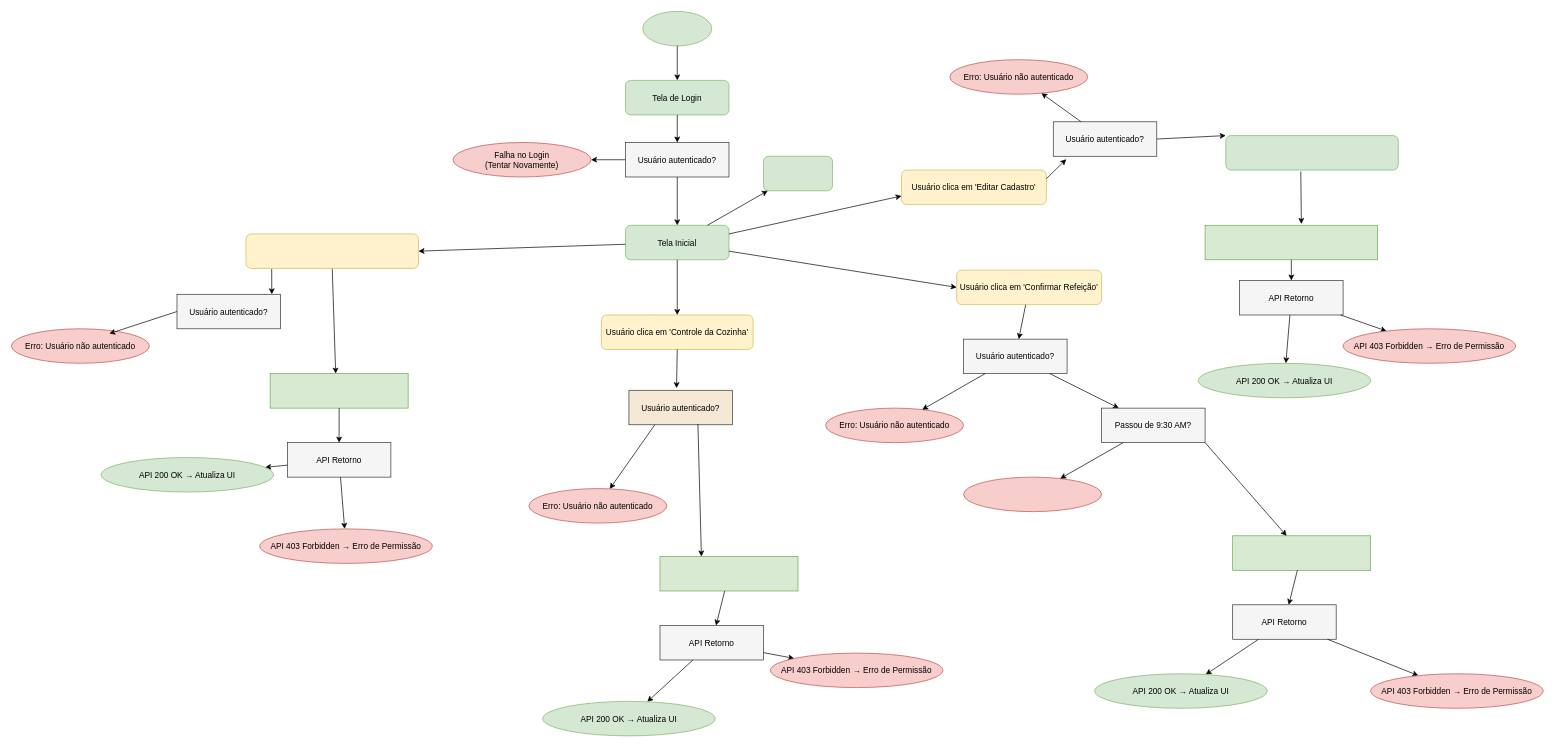
Some shapes in this 1555 by 747 pixel diagram are drawn without their labels. The centre of each missing label's shape, as x and y in pixels:
API: GET /funcionarios: point 338,390
API: GET /presenca/listar-almoco: point 728,573
API: POST /presenca/confirmar/:id: point 1301,552
API: PUT /funcionarios/:id: point 1291,242
Erro: Prazo encerrado: point 1032,494
Início: point 677,28
Logout: point 797,173
Usuário clica em 'Cadastro de Funcionários': point 331,250
Usuário é selecionado do contexto: point 1311,152
